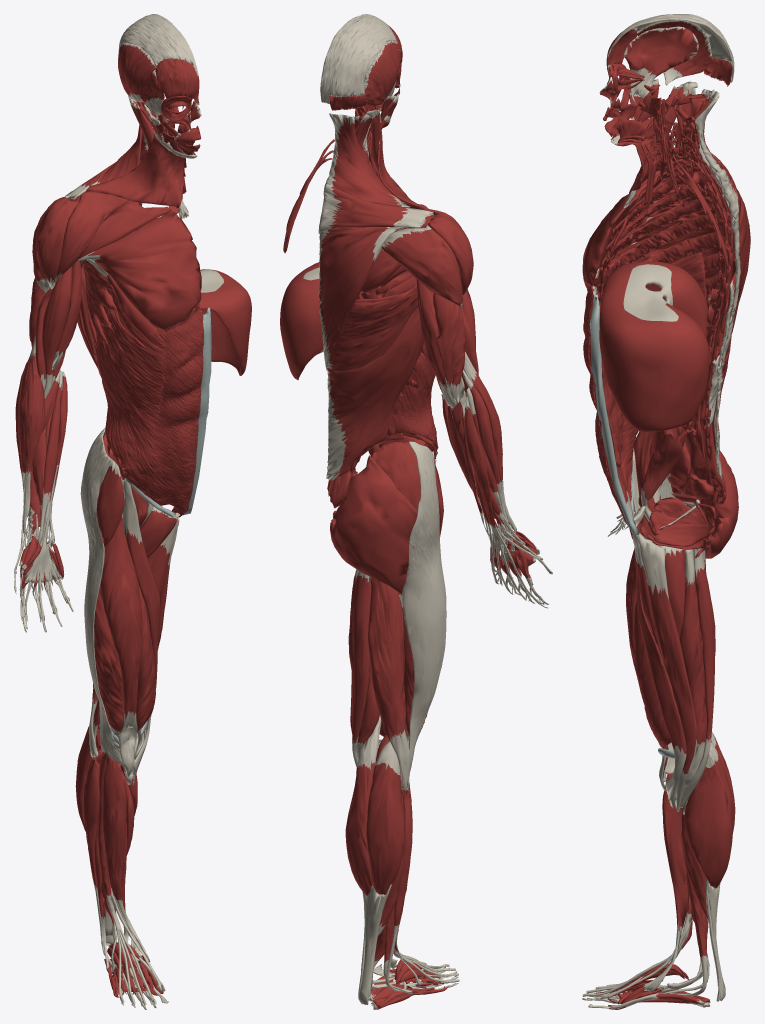
The model's file is muscles.glb.
3 renders of one model, left to right at view 1: azimuth 30°, elevation 25°; view 2: azimuth 150°, elevation 25°; view 3: azimuth 270°, elevation 25°, orthographic. The views are drawn at different scales.
Parts seen in each view (by area): view 1: external_abdominal_oblique_muscle_r, sternocostal_head_of_pectoralis_major_muscle_r, rectus_femoris_muscle_r, iliotibial_tract_r, diaphragm, platysma_r, tibialis_anterior_muscle_r, sartorius_muscle_r, brachioradialis_muscle_r, vastus_lateralis_muscle_r, clavicular_part_of_deltoid_muscle_r, epicranial_aponeurosis_r (+29 smaller); view 2: latissimus_dorsi_muscle_r, iliotibial_tract_r, gluteus_maximus_muscle_r, long_head_of_biceps_femoris_r, descending_part_of_trapezius_muscle_r, lateral_head_of_gastrocnemius_r, epicranial_aponeurosis_r, scapular_spinal_part_of_deltoid_muscle_r, diaphragm, ascending_part_of_trapezius_muscle_r, medial_head_of_gastrocnemius_r, transverse_part_of_trapezius_muscle_r (+19 smaller); view 3: diaphragm, innermost_intercostal_muscles_r, gracilis_muscle_r, medial_head_of_gastrocnemius_r, semimembranosus_muscle_r, sartorius_muscle_r, temporalis_muscle_r, semitendinosus_muscle_r, tibialis_anterior_muscle_r, transversus_abdominis_muscle_r, linea_alba, vastus_medialis_muscle_r (+45 smaller).
Part boxes in pixels (bbox=[...]): external_abdominal_oblique_muscle_r: bbox=[96, 290, 204, 505]; sternocostal_head_of_pectoralis_major_muscle_r: bbox=[76, 210, 201, 329]; rectus_femoris_muscle_r: bbox=[100, 490, 141, 777]; iliotibial_tract_r: bbox=[80, 428, 122, 765]; diaphragm: bbox=[199, 269, 251, 375]; platysma_r: bbox=[86, 129, 197, 207]; tibialis_anterior_muscle_r: bbox=[103, 757, 150, 961]; sartorius_muscle_r: bbox=[120, 475, 160, 783]; brachioradialis_muscle_r: bbox=[19, 336, 45, 535]; vastus_lateralis_muscle_r: bbox=[94, 585, 124, 768]; clavicular_part_of_deltoid_muscle_r: bbox=[54, 191, 127, 284]; epicranial_aponeurosis_r: bbox=[118, 14, 197, 69]; latissimus_dorsi_muscle_r: bbox=[326, 284, 423, 480]; iliotibial_tract_r: bbox=[402, 441, 446, 774]; gluteus_maximus_muscle_r: bbox=[330, 455, 417, 595]; long_head_of_biceps_femoris_r: bbox=[368, 576, 410, 790]; descending_part_of_trapezius_muscle_r: bbox=[318, 226, 404, 370]; lateral_head_of_gastrocnemius_r: bbox=[366, 741, 404, 894]; epicranial_aponeurosis_r: bbox=[320, 14, 397, 103]; scapular_spinal_part_of_deltoid_muscle_r: bbox=[382, 225, 462, 309]; diaphragm: bbox=[280, 262, 323, 379]; ascending_part_of_trapezius_muscle_r: bbox=[324, 113, 410, 207]; medial_head_of_gastrocnemius_r: bbox=[345, 715, 381, 895]; transverse_part_of_trapezius_muscle_r: bbox=[318, 184, 433, 233]; diaphragm: bbox=[599, 261, 709, 431]; innermost_intercostal_muscles_r: bbox=[605, 175, 720, 324]; gracilis_muscle_r: bbox=[638, 533, 696, 812]; medial_head_of_gastrocnemius_r: bbox=[684, 742, 733, 888]; semimembranosus_muscle_r: bbox=[679, 549, 706, 787]; sartorius_muscle_r: bbox=[632, 448, 686, 808]; temporalis_muscle_r: bbox=[624, 26, 698, 102]; semitendinosus_muscle_r: bbox=[680, 548, 714, 807]; tibialis_anterior_muscle_r: bbox=[643, 773, 688, 992]; transversus_abdominis_muscle_r: bbox=[598, 252, 706, 501]; linea_alba: bbox=[589, 297, 639, 535]; vastus_medialis_muscle_r: bbox=[633, 598, 670, 779].
Bounding box in the file's own units: 0.455 × 1.7 × 0.2585.
